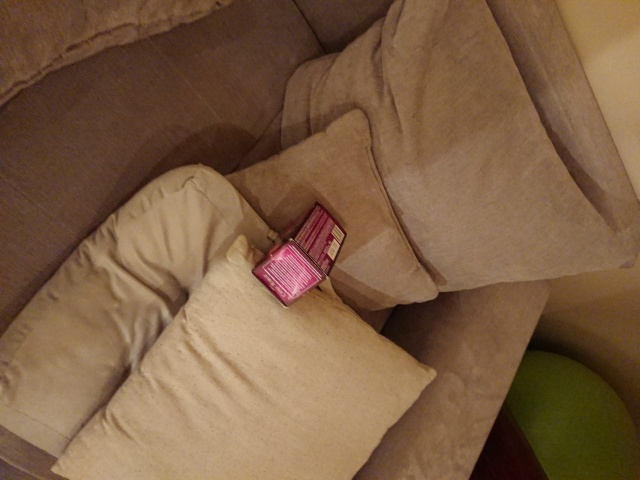Franck Black Currant Tea 60g: (249, 199, 349, 309)
